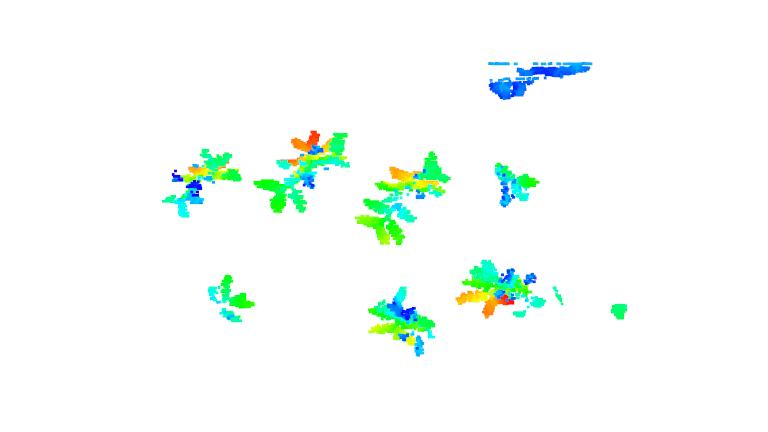chickpea: (353, 151, 453, 247), (252, 127, 356, 216), (162, 146, 243, 221), (456, 256, 546, 322), (367, 284, 438, 359), (205, 272, 257, 324), (491, 160, 540, 210)
